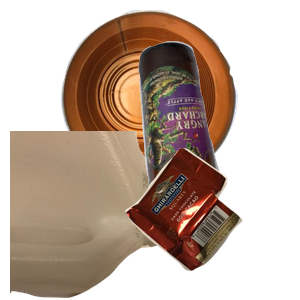glass: (136, 39, 300, 219)
metal: (58, 10, 289, 186)
plastic: (10, 131, 196, 300)
trash: (123, 145, 300, 300)
